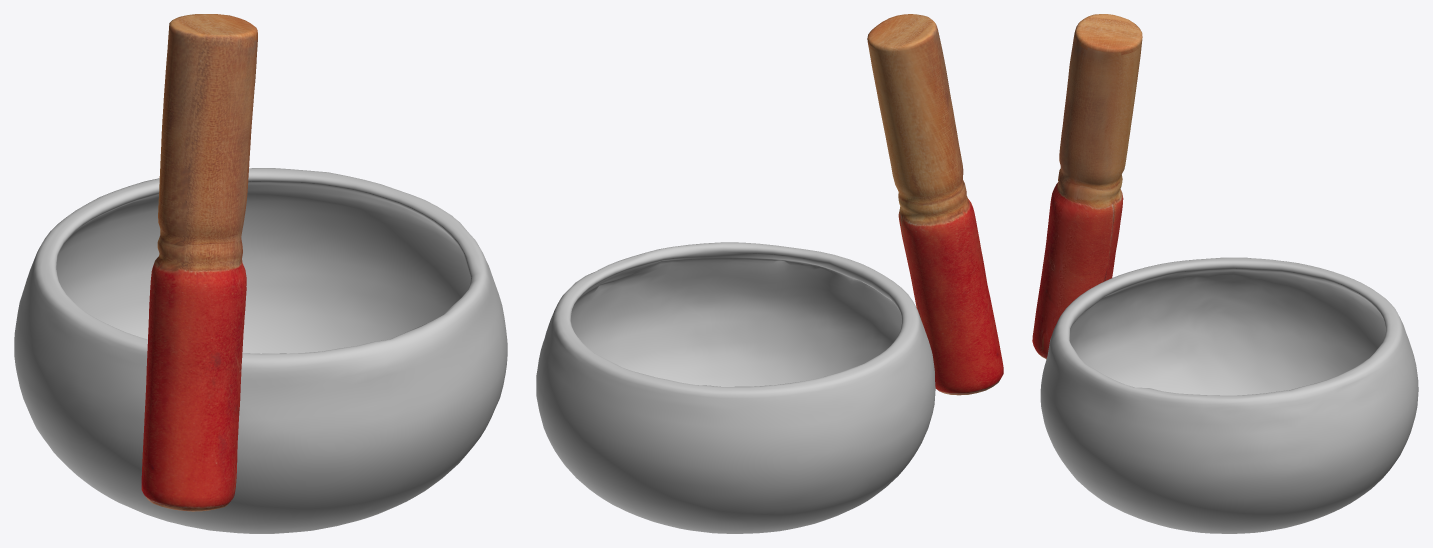
The model's file is bowlnepalanimation.fbx.
The picture shows the model from 3 angles, left to right: view 1: azimuth 30°, elevation 25°; view 2: azimuth 150°, elevation 25°; view 3: azimuth 270°, elevation 25°; orthographic projection. The views are drawn at different scales.
Visible parts, largest first — view 1: LP, LP.001; view 2: LP, LP.001; view 3: LP, LP.001.
Part boxes in pixels (x1,y1,x2,y2): LP: (14,168,507,533); LP.001: (141,14,257,511); LP: (536,242,935,533); LP.001: (867,14,1003,395); LP: (1040,257,1418,533); LP.001: (1032,14,1142,359).
Size of the model in its own units: 110 by 135 by 111.
